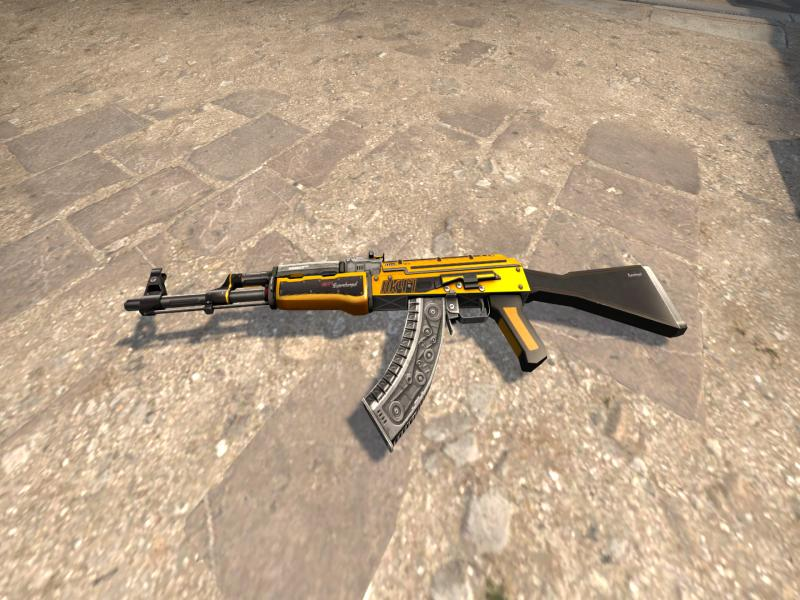AK47: (124, 252, 688, 448)
